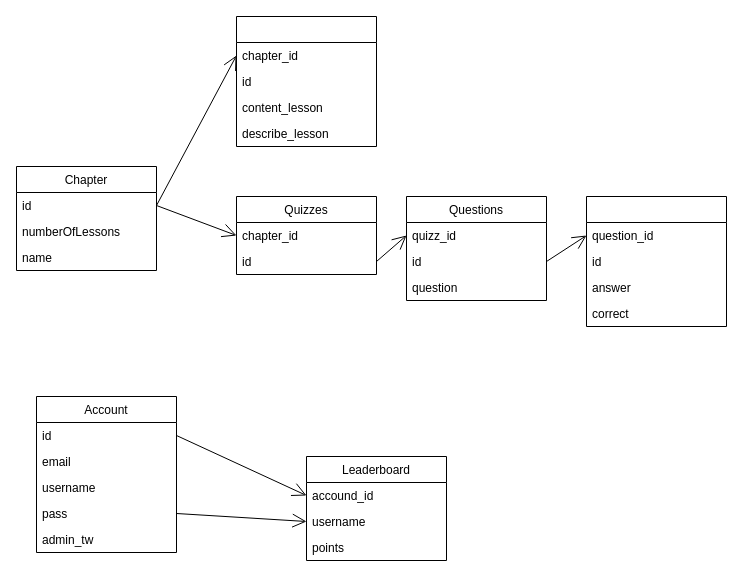
Some shapes in this 743 by 577 pixel diagram are drawn without their labels. Here are the shapes that lost their labels. From the top down, the box of each, then its label:
(236, 16, 376, 146): Lessons
(586, 196, 726, 326): Answers
